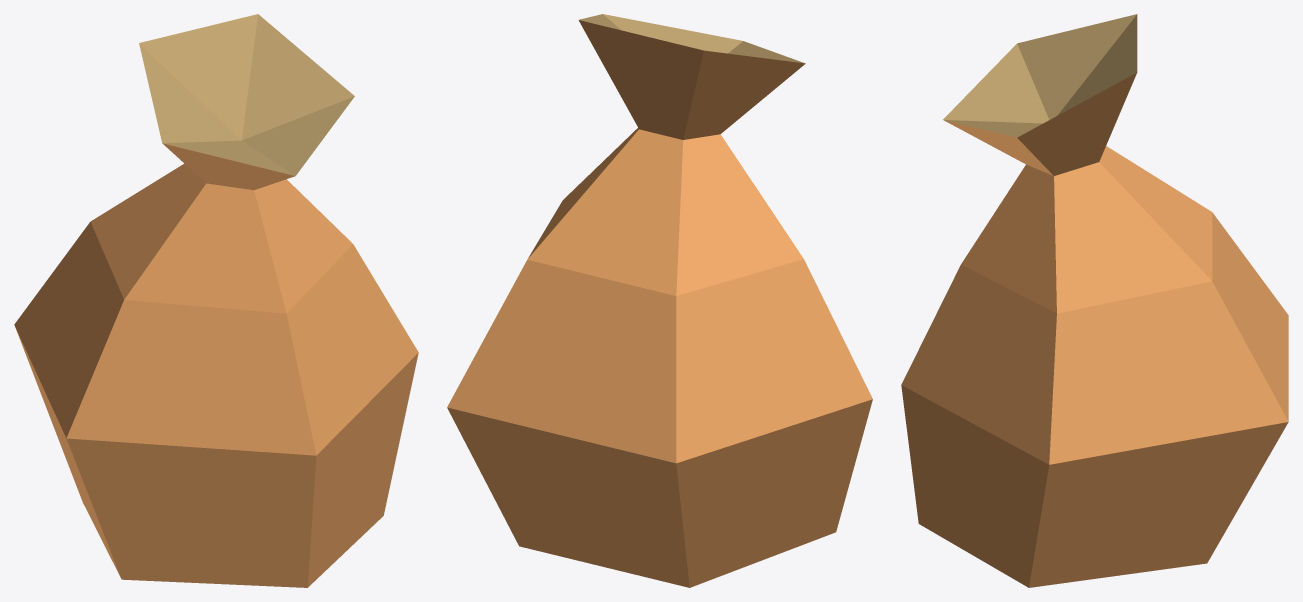
The model's file is TB_Prop_Sack_B.FBX.
3 views of the same model, side by side, from view 1: azimuth 30°, elevation 25°; view 2: azimuth 150°, elevation 25°; view 3: azimuth 270°, elevation 25° (orthographic). The views are drawn at different scales.
Parts seen in each view (by area): view 1: TB_Prop_Sack_B; view 2: TB_Prop_Sack_B; view 3: TB_Prop_Sack_B.
Part boxes in pixels (bbox=[...]): TB_Prop_Sack_B: bbox=[14, 14, 418, 587]; TB_Prop_Sack_B: bbox=[447, 14, 872, 587]; TB_Prop_Sack_B: bbox=[901, 14, 1288, 587].
Size of the model in its own units: 0.7658 by 0.9961 by 0.7276.
